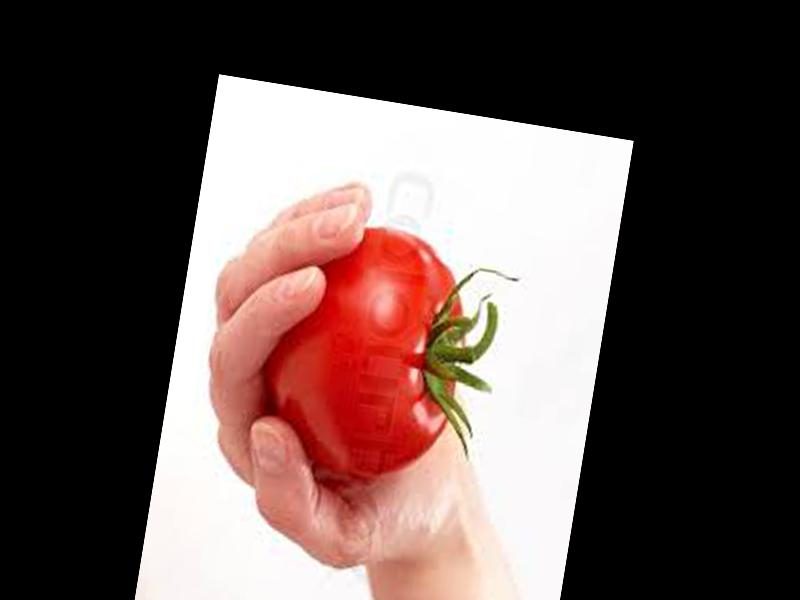Tomato: (252, 213, 482, 486)
